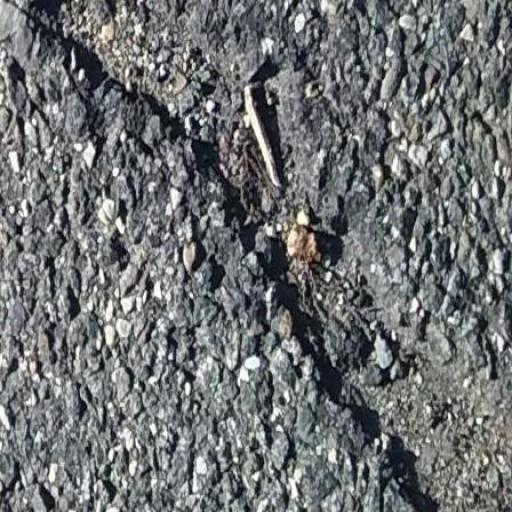spalling: (19, 0, 512, 512)
